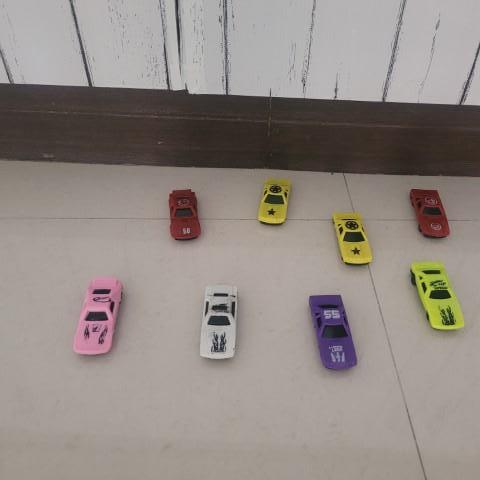car: (409, 257, 465, 335), (306, 291, 358, 370), (74, 276, 124, 354), (200, 280, 242, 364), (331, 209, 373, 269), (407, 185, 452, 239), (165, 184, 204, 241), (254, 175, 298, 225)
